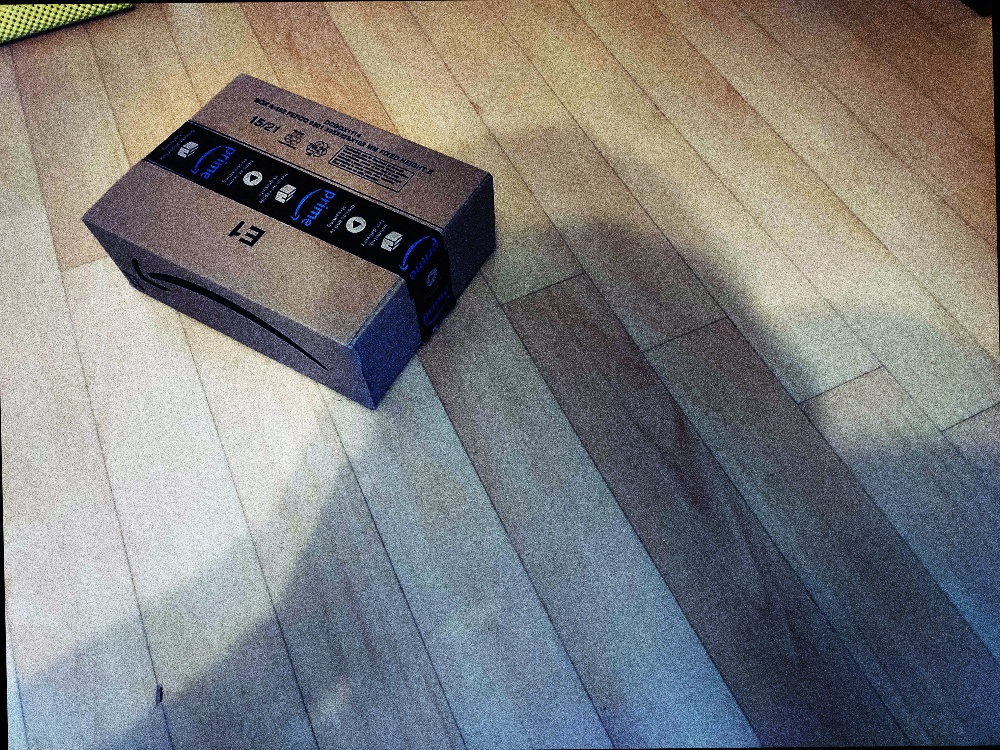good-parcel: (77, 74, 504, 413)
